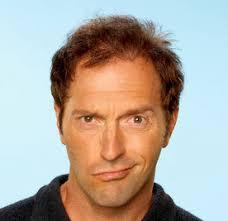strokeEyeWeak: (71, 104, 158, 133)
strokeMouthSevere: (91, 160, 141, 188)
